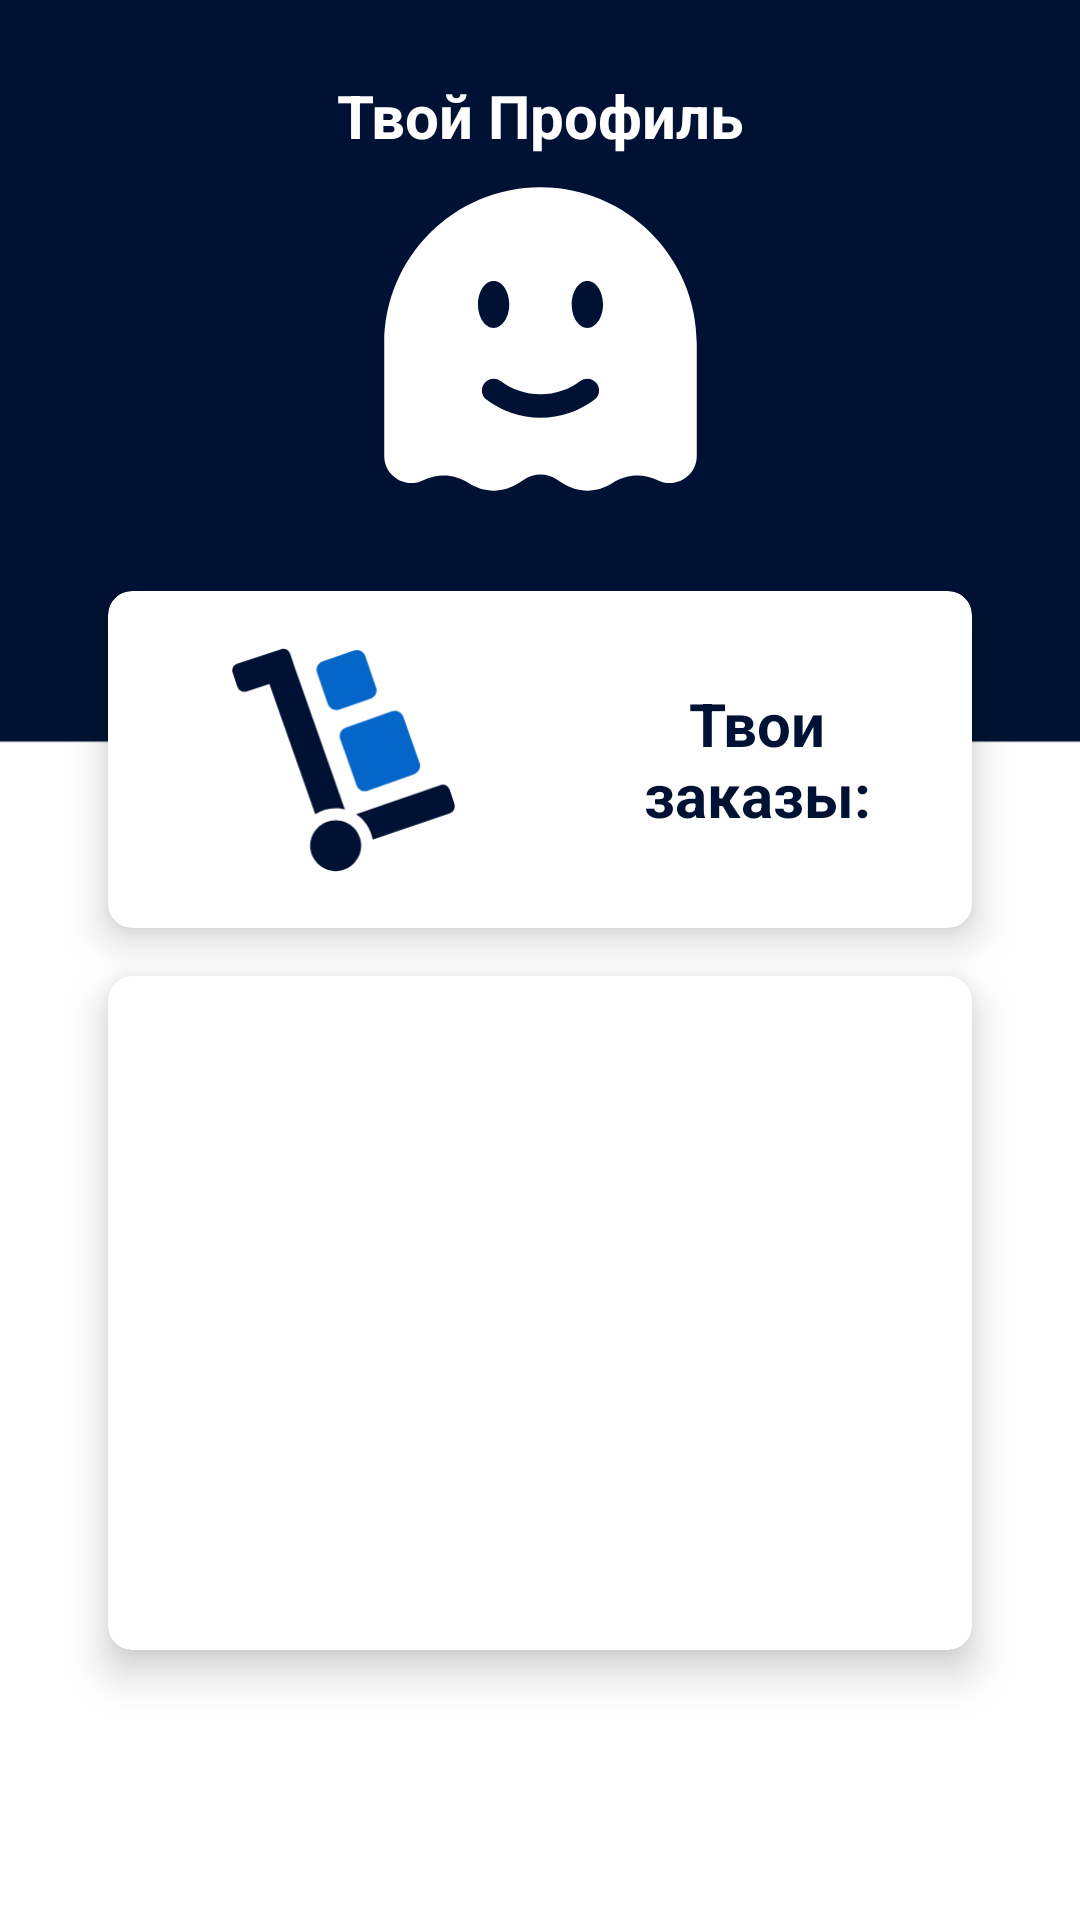

Screen size 1080px x 1920px. Icon name, then its center in pixels as [x,y]:
order: [343,760]
